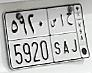0: (39, 20, 49, 60)
S: (51, 17, 61, 56)
